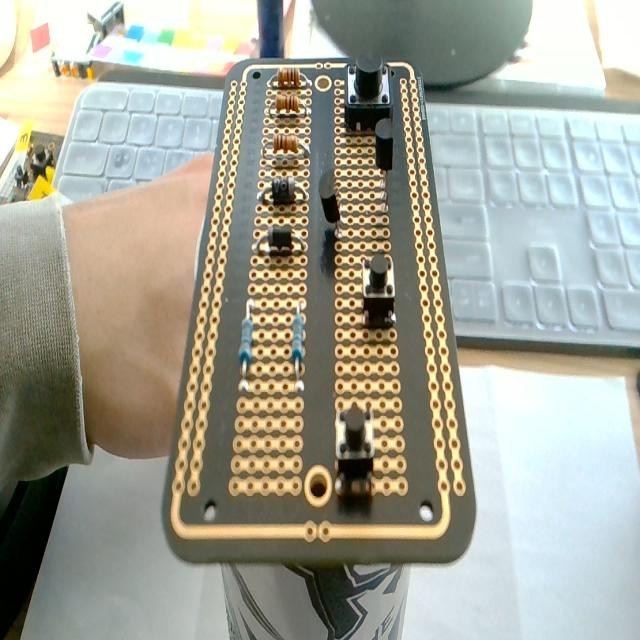diode: (248, 225, 314, 273), (252, 178, 310, 218)
resistor: (236, 290, 260, 399), (254, 128, 319, 165), (286, 295, 310, 393), (262, 95, 320, 133), (261, 66, 316, 98)
switch: (358, 241, 400, 345), (341, 49, 393, 128)
transistor: (312, 150, 350, 246), (372, 118, 400, 205)
